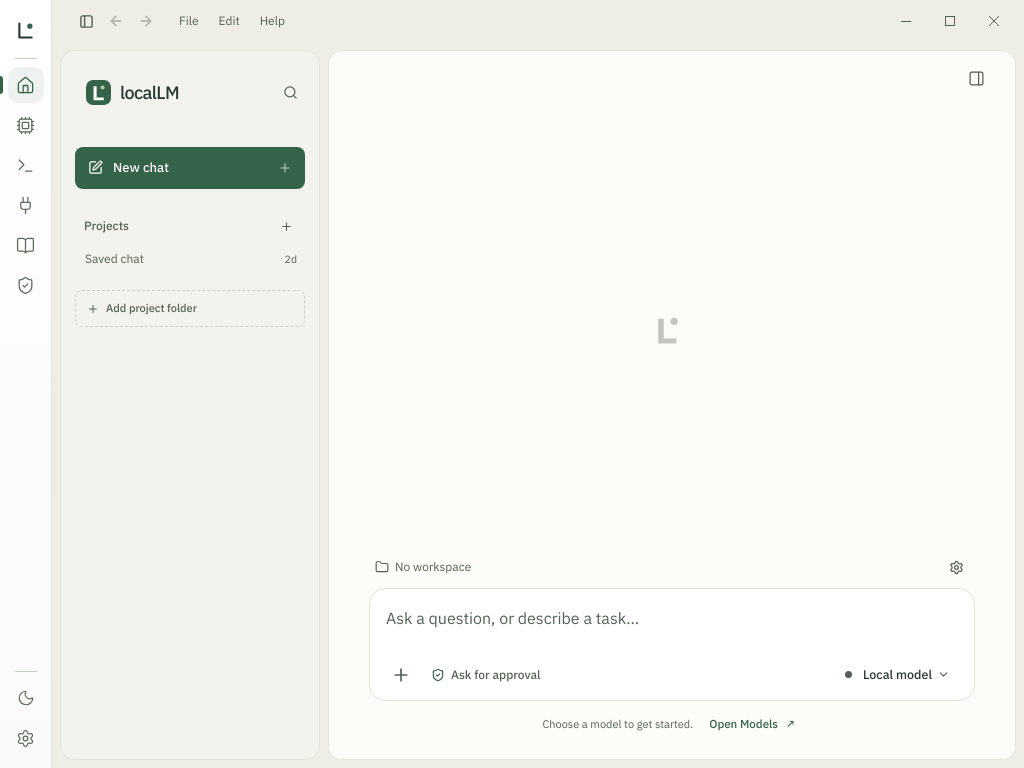
Test case: remembered tool selection › saves a change in a fresh chat immediately as the remembered selection
Click the button named "Tools".
click(26, 285)  # box left=8, top=267, right=44, bottom=303
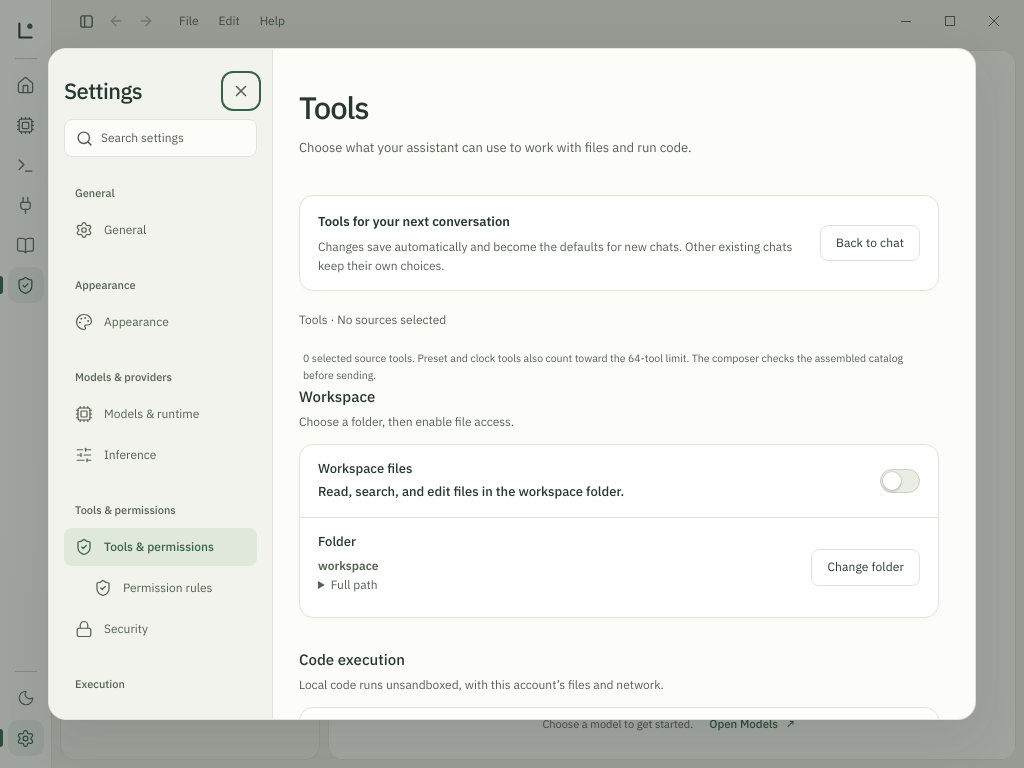
Now the checkbox named "Workspace files" is enabled
Click the checkbox named "Workspace files".
click(900, 481)  # box left=880, top=469, right=920, bottom=493
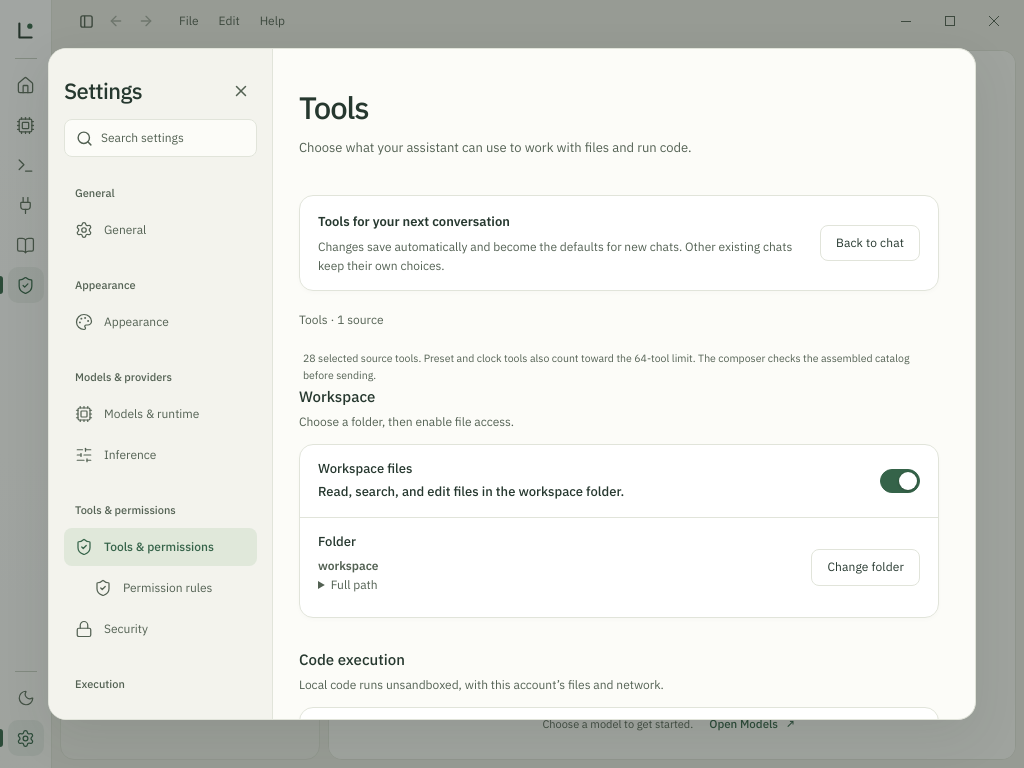
Now the text "Tools · 1 source" is shown, box left=299, top=312, right=384, bottom=327
